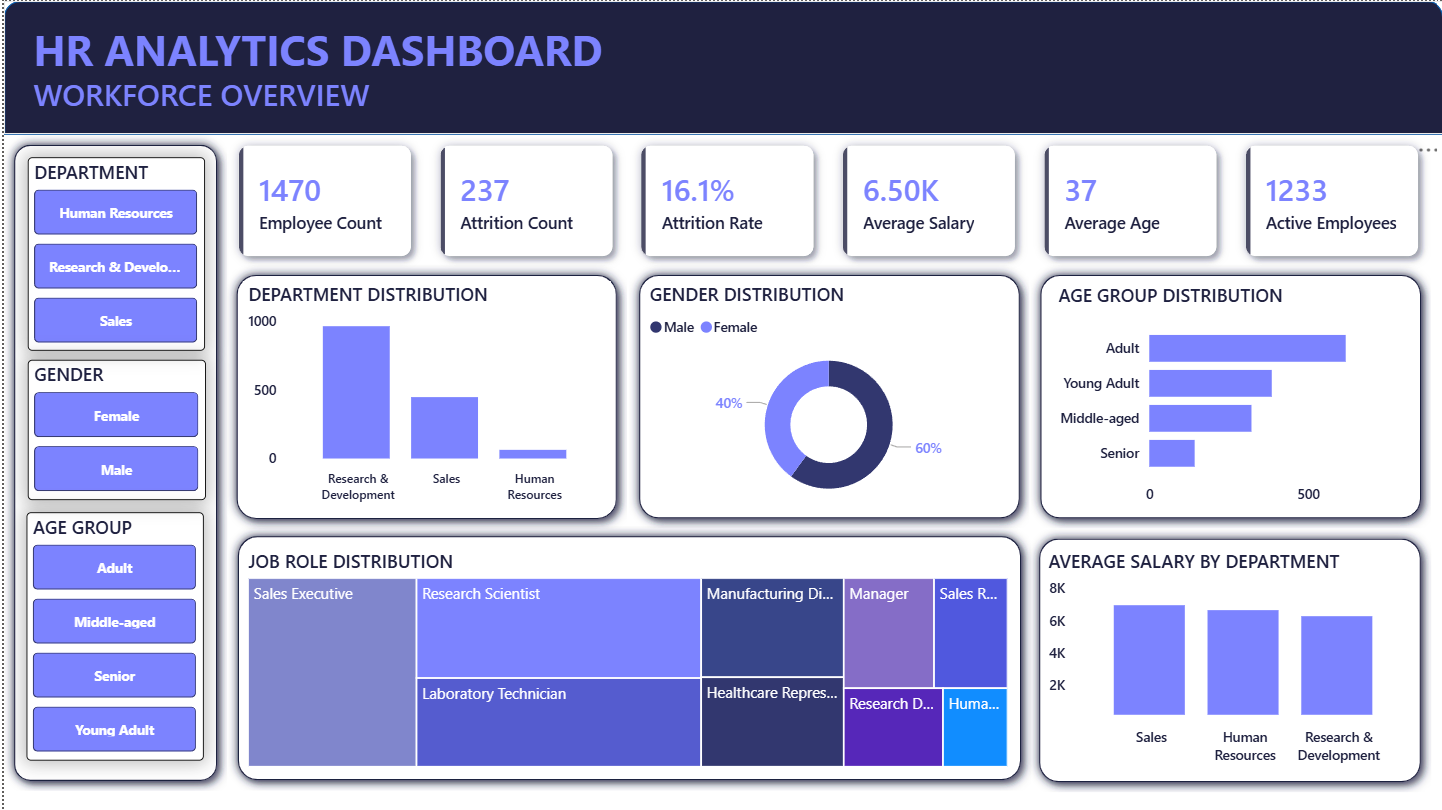

What the dashboard file says about the page in this screenshot:
{"tool":"powerbi","page":{"name":"Employee Executives","canvas":[1280,720],"ordinal":0},"visuals":[{"type":"shape","box":[0,0,1280,118.9],"z":0},{"type":"textbox","box":[21.1,13.3,543.3,67.8],"z":1000},{"type":"textbox","box":[21.1,60,315.6,45.6],"z":2000},{"type":"shape","box":[0,118.3,198.3,583.3],"z":3000},{"type":"cardVisual","fields":{"Data":["HR_Cleaned.TotalEmployee","HR_Cleaned.AttritionCount","HR_Cleaned.AttritionRate","HR_Cleaned.AverageSalary","HR_Cleaned.AverageAge","HR_Cleaned.ActiveEmployees"]},"box":[185,105.6,1095,144.4],"z":4000},{"type":"shape","box":[198,234,356,235],"z":5000},{"type":"shape","box":[198.3,466.7,714.2,235],"z":6000},{"type":"shape","box":[555.5,234.5,356.4,234.5],"z":7000},{"type":"shape","box":[911.8,234.5,356.4,234.5],"z":8000},{"type":"shape","box":[910.9,469.1,357.3,234.5],"z":9000},{"type":"clusteredColumnChart","title":"DEPARTMENT DISTRIBUTION","fields":{"Category":["HR_Cleaned.Department"],"Y":["HR_Cleaned.TotalEmployee"]},"box":[212.5,248.8,327.5,205],"z":10000},{"type":"donutChart","title":"GENDER DISTRIBUTION","fields":{"Category":["HR_Cleaned.Gender"],"Y":["HR_Cleaned.TotalEmployee"]},"box":[568.8,248.8,328.8,206.2],"z":11000},{"type":"clusteredBarChart","title":"AGE GROUP DISTRIBUTION","fields":{"Category":["HR_Cleaned.AgeGroup"],"Y":["HR_Cleaned.TotalEmployee"]},"box":[932.2,250,326.7,206.7],"z":12000},{"type":"treemap","title":"JOB ROLE DISTRIBUTION","fields":{"Group":["HR_Cleaned.JobRole"],"Values":["HR_Cleaned.TotalEmployee"]},"box":[212.5,486.7,685,199.2],"z":13000},{"type":"clusteredColumnChart","title":"AVERAGE SALARY BY DEPARTMENT","fields":{"Category":["HR_Cleaned.Department"],"Y":["Avg(HR_Cleaned.MonthlyIncome)"]},"box":[923,487,335,199],"z":14000},{"type":"advancedSlicerVisual","title":"DEPARTMENT","fields":{"Values":["HR_Cleaned.Department"]},"box":[21.1,138.9,157.8,172.2],"z":15000},{"type":"advancedSlicerVisual","title":"GENDER","fields":{"Values":["HR_Cleaned.Gender"]},"box":[20.8,319.2,158.3,125],"z":16000},{"type":"advancedSlicerVisual","title":"AGE GROUP","fields":{"Values":["HR_Cleaned.AgeGroup"]},"box":[20,454.4,157.8,221.1],"z":17000}]}

Visuals, with their boxes in screenshot pixels (x1, y1, x2, y2), scaled from the page's 1280x720 canvas onto the 1442x810 screenshot:
shape: [x1=0, y1=0, x2=1441, y2=134]
textbox: [x1=24, y1=15, x2=636, y2=91]
textbox: [x1=24, y1=68, x2=379, y2=119]
shape: [x1=0, y1=133, x2=223, y2=789]
cardVisual - HR_Cleaned.TotalEmployee x HR_Cleaned.AttritionCount: [x1=208, y1=119, x2=1441, y2=281]
shape: [x1=223, y1=263, x2=624, y2=528]
shape: [x1=223, y1=525, x2=1028, y2=789]
shape: [x1=626, y1=264, x2=1027, y2=528]
shape: [x1=1027, y1=264, x2=1429, y2=528]
shape: [x1=1026, y1=528, x2=1429, y2=792]
"DEPARTMENT DISTRIBUTION" clusteredColumnChart: [x1=239, y1=280, x2=608, y2=511]
"GENDER DISTRIBUTION" donutChart: [x1=641, y1=280, x2=1011, y2=512]
"AGE GROUP DISTRIBUTION" clusteredBarChart: [x1=1050, y1=281, x2=1418, y2=514]
"JOB ROLE DISTRIBUTION" treemap: [x1=239, y1=548, x2=1011, y2=772]
"AVERAGE SALARY BY DEPARTMENT" clusteredColumnChart: [x1=1040, y1=548, x2=1417, y2=772]
"DEPARTMENT" advancedSlicerVisual: [x1=24, y1=156, x2=202, y2=350]
"GENDER" advancedSlicerVisual: [x1=23, y1=359, x2=202, y2=500]
"AGE GROUP" advancedSlicerVisual: [x1=23, y1=511, x2=200, y2=760]
